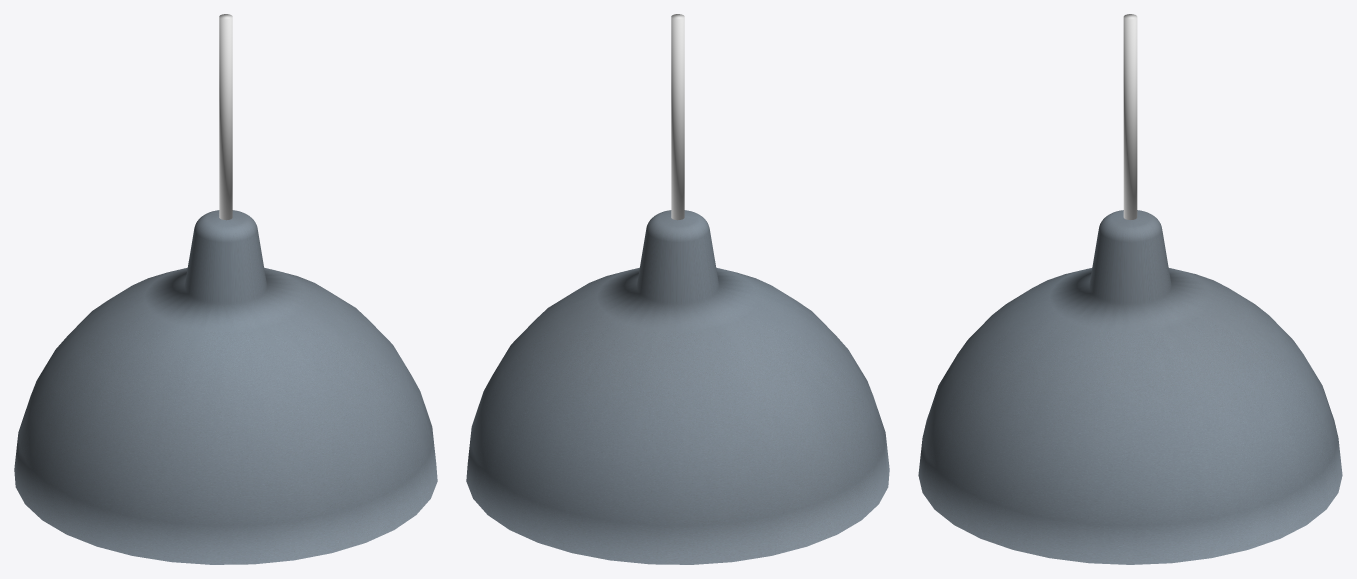
File: LamparaPHunt.fbx
The picture shows the model from 3 angles, left to right: view 1: azimuth 30°, elevation 25°; view 2: azimuth 150°, elevation 25°; view 3: azimuth 270°, elevation 25°; orthographic projection.
Visible parts, largest first — view 1: Lampara; view 2: Lampara; view 3: Lampara.
Boxes of the visible parts, x1=… form: Lampara: x1=14, y1=14, x2=437, y2=564; Lampara: x1=466, y1=14, x2=889, y2=564; Lampara: x1=918, y1=14, x2=1342, y2=564.
Bounding box in the file's own units: 200 × 239 × 200.
3 materials, 1 textured.
